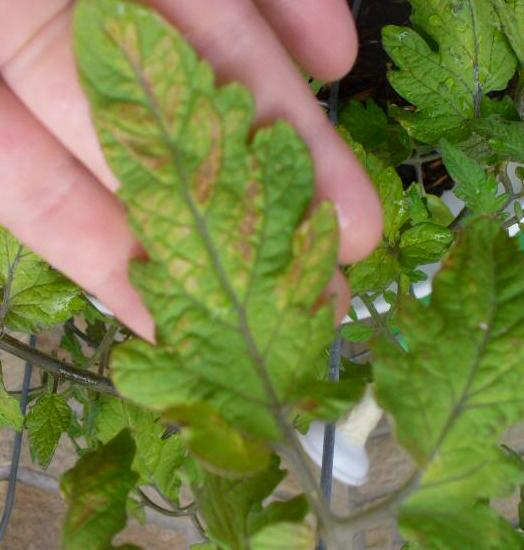Tomato leaf bacterial spot: (53, 0, 351, 477), (357, 201, 524, 541)
